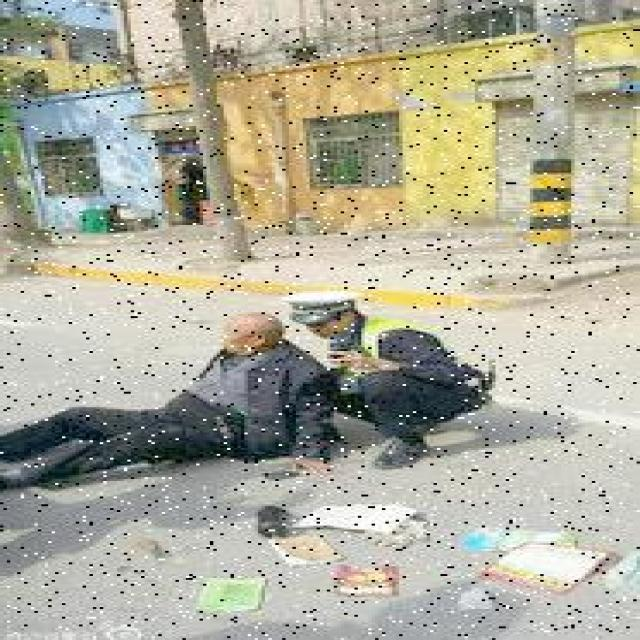fall: (3, 316, 316, 473)
